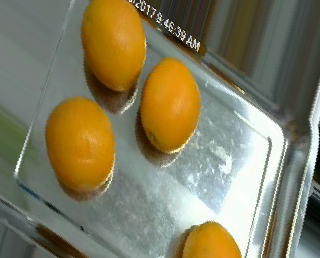Orange: (44, 95, 116, 193), (139, 57, 201, 155), (80, 1, 146, 92)
